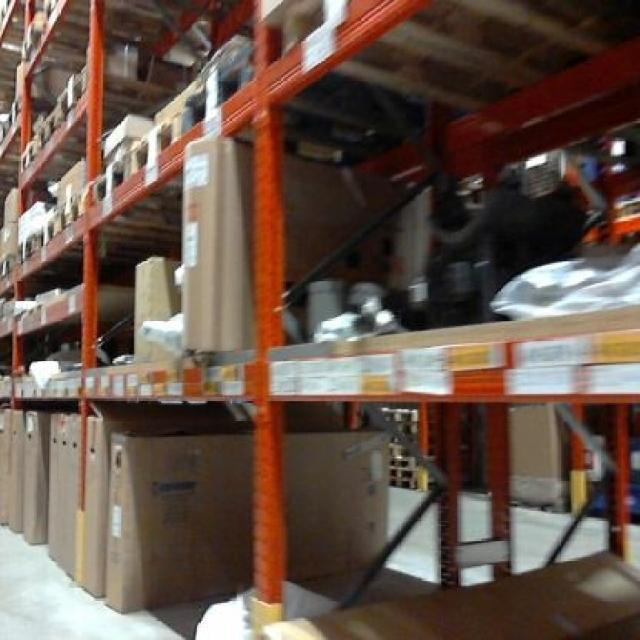pallets: (262, 551, 637, 637), (105, 432, 249, 609), (285, 431, 385, 577)
